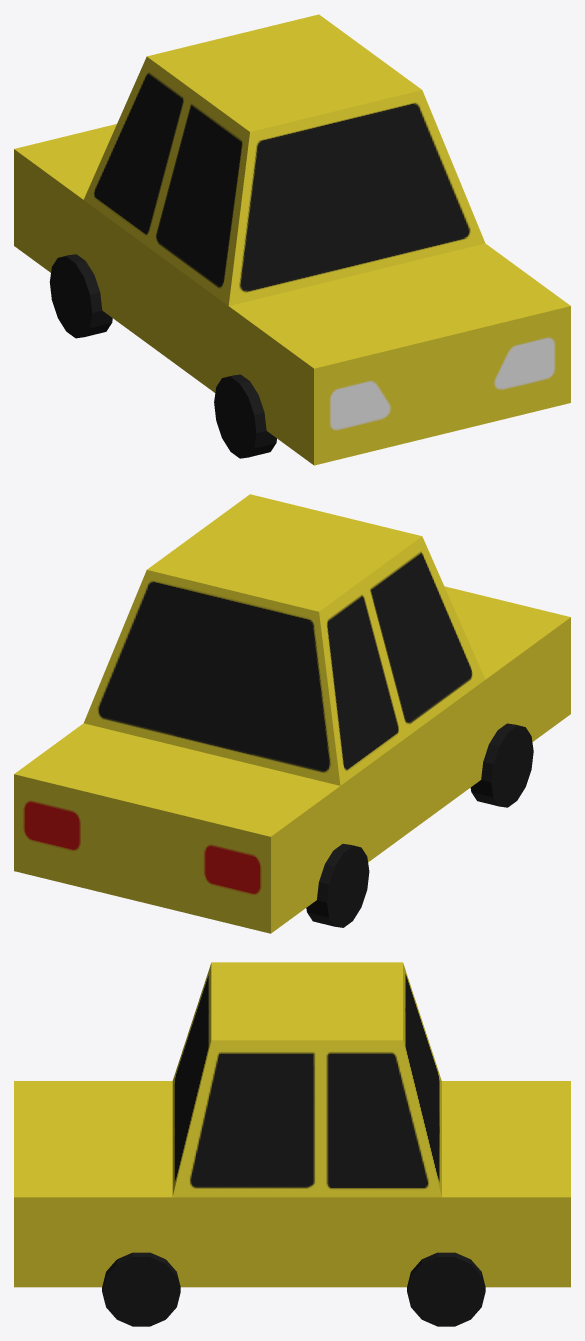
The model's file is Car_Yellow.fbx.
3 views of the same model, one above another, from view 1: azimuth 30°, elevation 25°; view 2: azimuth 150°, elevation 25°; view 3: azimuth 270°, elevation 25° (orthographic). The views are drawn at different scales.
Parts seen in each view (by area): view 1: Car_Yellow; view 2: Car_Yellow; view 3: Car_Yellow.
Boxes of the visible parts, x1,y1,x2,y2 form: Car_Yellow: (14, 14, 570, 465); Car_Yellow: (14, 494, 570, 933); Car_Yellow: (14, 962, 570, 1326).
Size of the model in its own units: 141 by 138 by 265.
Materials: 1 (1 with a texture image).
